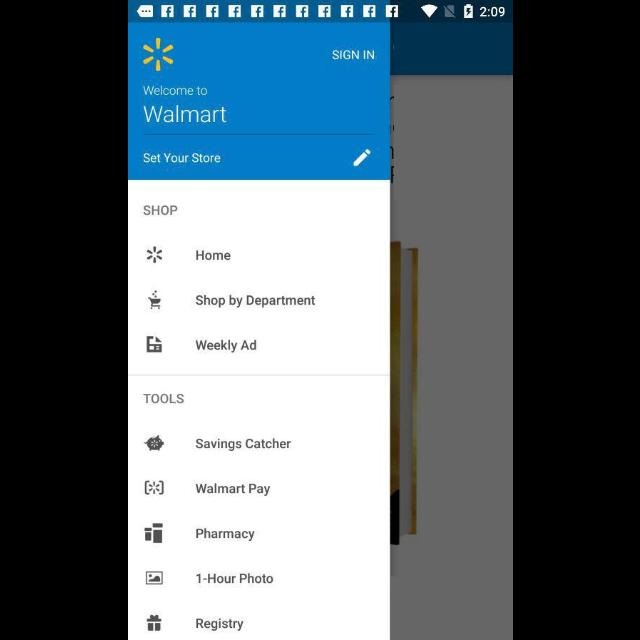icon: (352, 150, 371, 168), (146, 614, 162, 632), (146, 336, 162, 354), (147, 290, 161, 310), (145, 571, 163, 585)
image: (142, 38, 174, 72), (144, 522, 162, 544), (142, 434, 164, 452), (146, 246, 162, 264), (144, 481, 164, 495)
panel: (128, 24, 390, 640)
text: (195, 294, 315, 308), (142, 105, 226, 124), (195, 438, 291, 452), (196, 482, 270, 496), (142, 152, 220, 164), (195, 572, 272, 584), (194, 339, 256, 353), (196, 527, 254, 541), (142, 85, 208, 97), (194, 617, 243, 631), (142, 394, 184, 404), (332, 50, 374, 60), (196, 251, 230, 261), (143, 206, 177, 216)
uppertaskbar: (128, 1, 512, 23)
